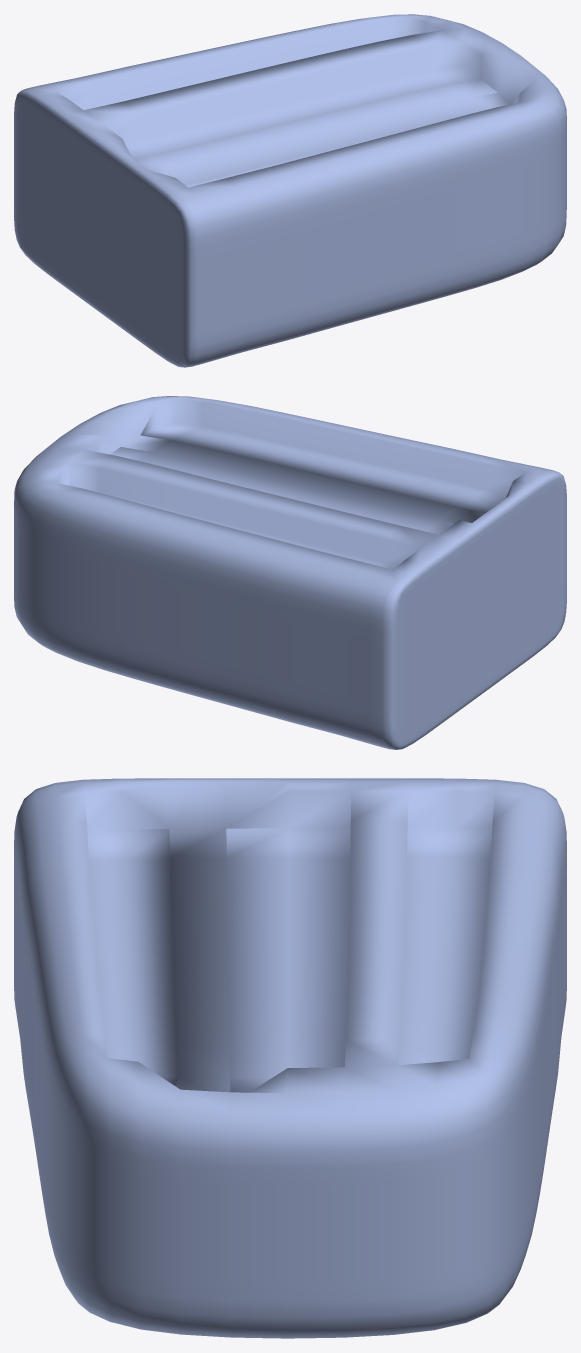
File: SlimeRupa4.fbx
The picture shows the model from 3 angles, top to bottom: view 1: azimuth 30°, elevation 25°; view 2: azimuth 150°, elevation 25°; view 3: azimuth 270°, elevation 25°; orthographic projection. The views are drawn at different scales.
Parts seen in each view (by area): view 1: Slime; view 2: Slime; view 3: Slime.
Part boxes in pixels (x1,y1,x2,y2): Slime: [14, 14, 566, 367]; Slime: [14, 396, 566, 749]; Slime: [14, 778, 566, 1338].
Size of the model in its own units: 0.4401 by 0.1682 by 0.3147.
